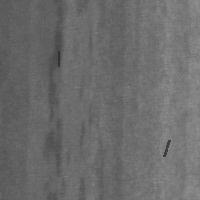inclusion: (60, 6, 98, 198), (41, 1, 74, 178), (162, 138, 171, 158), (56, 49, 60, 68)
